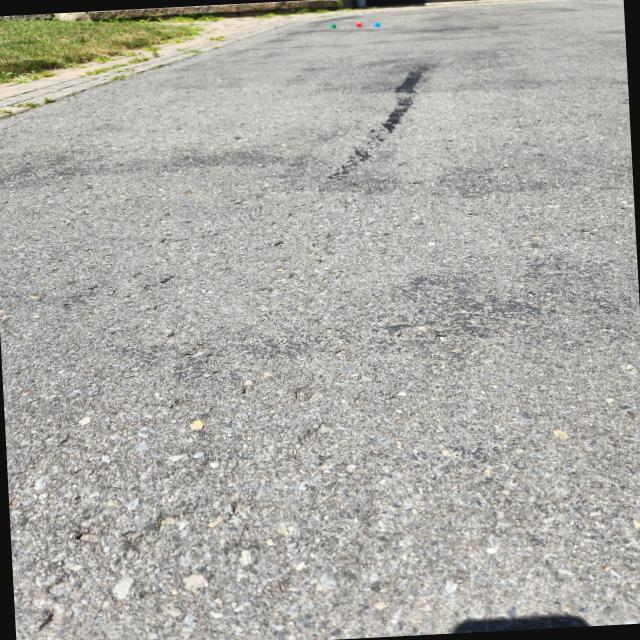bluecube: (374, 22, 381, 28)
green cube: (330, 24, 336, 29)
red cube: (356, 22, 362, 28)
